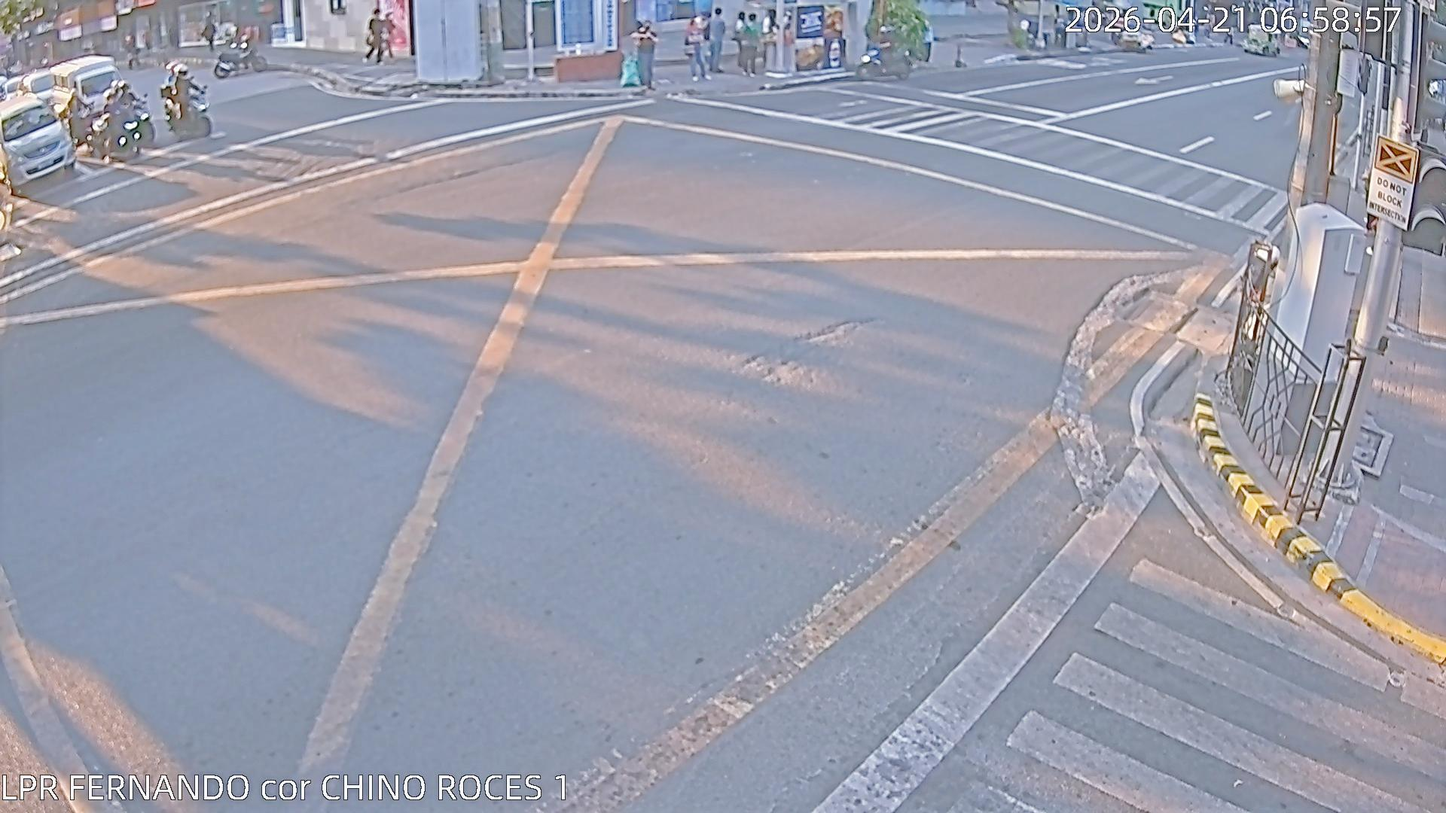Car: (0, 91, 79, 195), (51, 58, 127, 114), (2, 67, 58, 116), (1242, 25, 1281, 57), (1114, 28, 1155, 53), (1297, 29, 1311, 50)
Motor: (85, 93, 153, 161), (158, 83, 221, 143), (857, 33, 912, 82), (212, 38, 268, 78)
